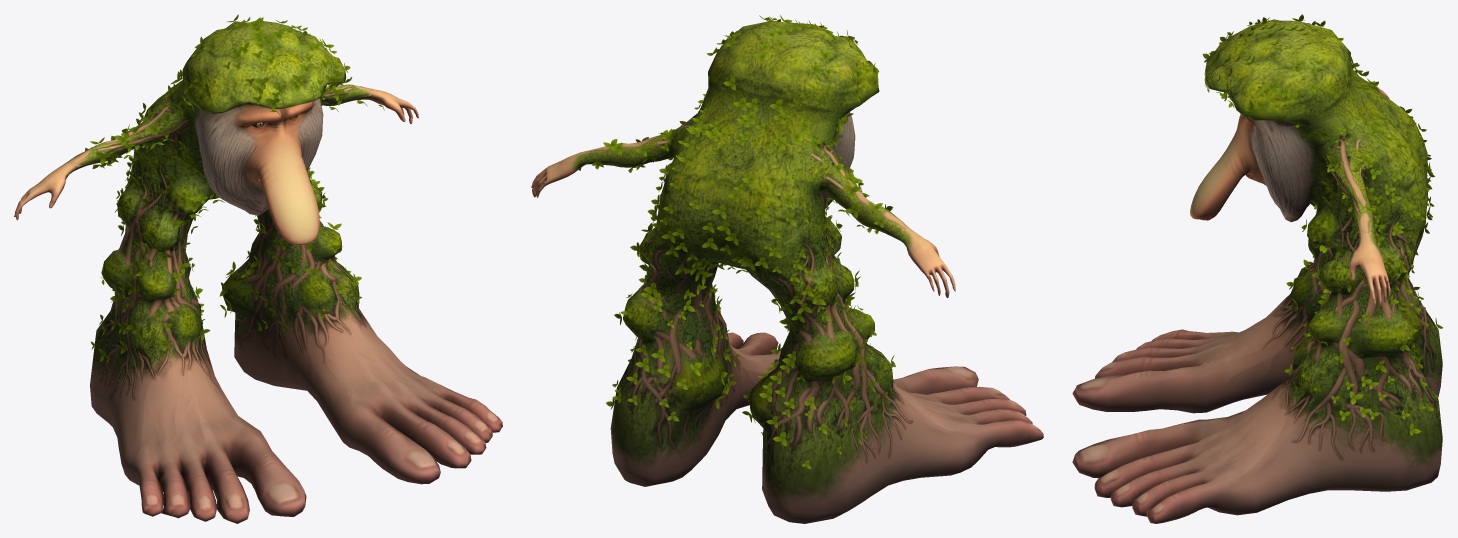
Rendered from EnemySmall.glb.
The picture shows the model from 3 angles, left to right: view 1: azimuth 30°, elevation 25°; view 2: azimuth 150°, elevation 25°; view 3: azimuth 270°, elevation 25°; orthographic projection. The views are drawn at different scales.
Visible parts, largest first — view 1: Body_LP, stylized bush.002; view 2: Body_LP, stylized bush.002; view 3: Body_LP, stylized bush.002.
Part boxes in pixels (<box>): Body_LP: <box>14,20,502,523</box>; stylized bush.002: <box>85,14,384,362</box>; Body_LP: <box>531,21,1043,523</box>; stylized bush.002: <box>579,15,895,468</box>; Body_LP: <box>1072,19,1442,523</box>; stylized bush.002: <box>1202,14,1442,435</box>.
Bounding box in the file's own units: 1.06 × 1.02 × 0.8178.
Materials: 2 (2 with a texture image).
